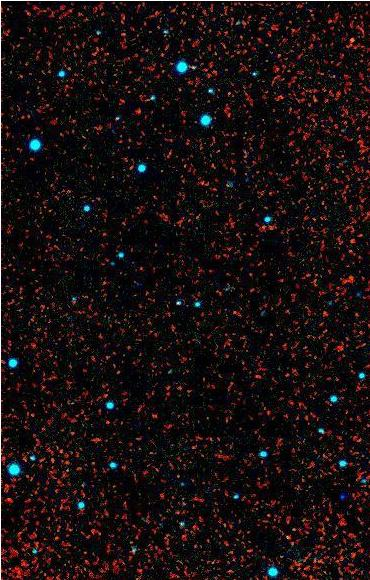star: (331, 479, 361, 509)
